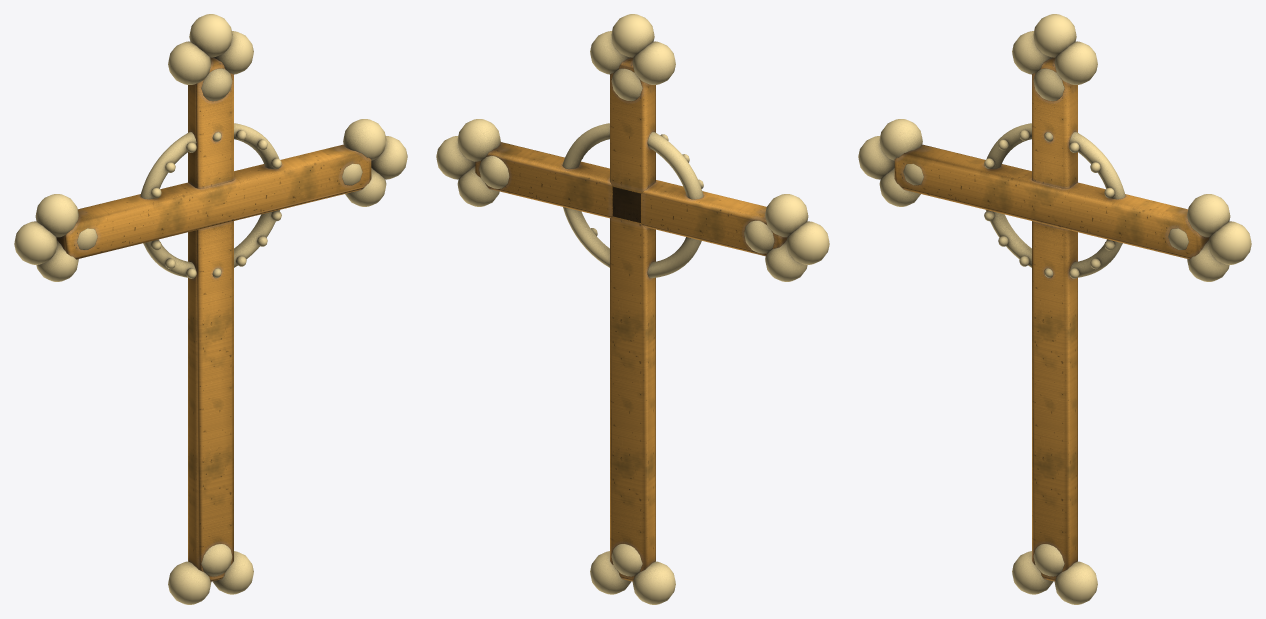
The model's file is GildedCross.fbx.
3 views of the same model, side by side, from view 1: azimuth 30°, elevation 25°; view 2: azimuth 150°, elevation 25°; view 3: azimuth 330°, elevation 25° (orthographic).
Parts seen in each view (by area): view 1: GildedCross; view 2: GildedCross; view 3: GildedCross.
Part boxes in pixels (x1,y1,x2,y2): GildedCross: [14, 14, 407, 604]; GildedCross: [436, 14, 829, 604]; GildedCross: [858, 14, 1251, 604].
Bounding box in the file's own units: 328 × 470 × 32.
